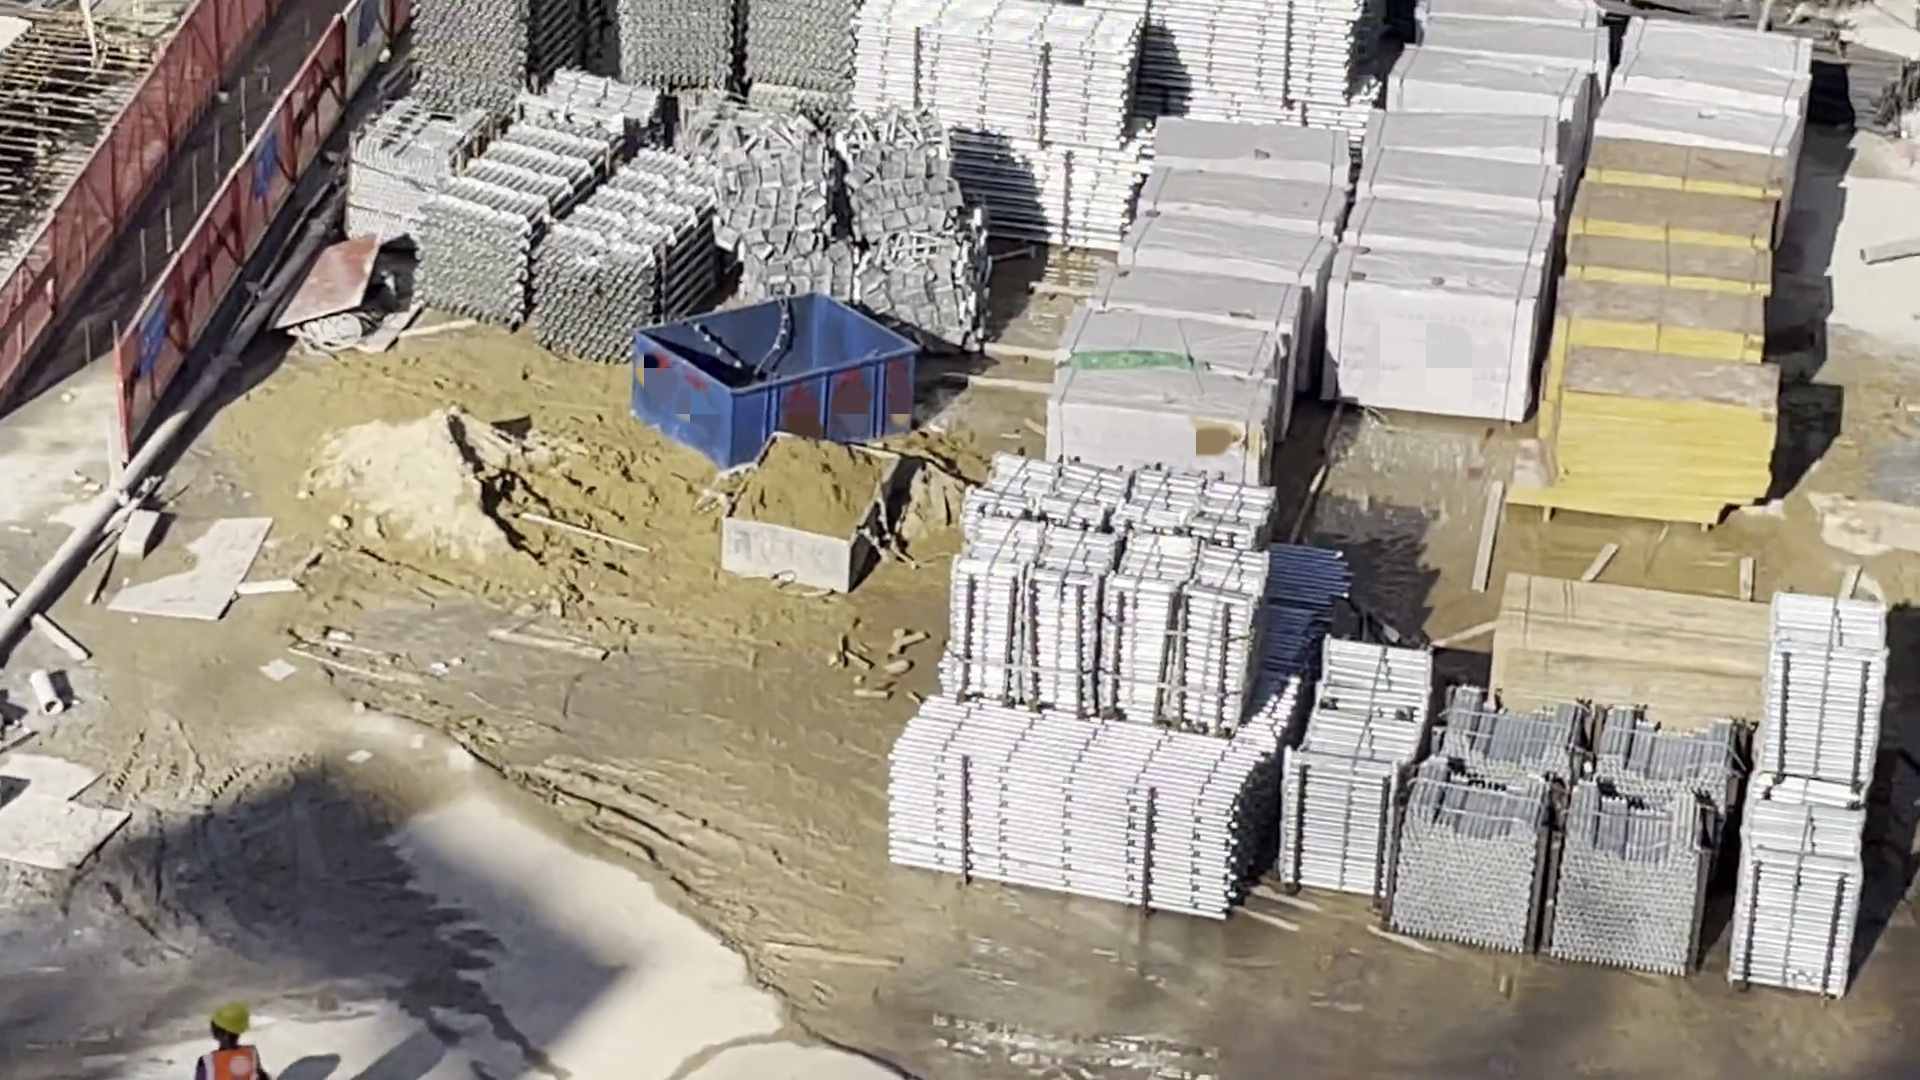board: (1541, 352, 1776, 499), (1548, 252, 1786, 346), (1579, 172, 1779, 271)
fence: (129, 191, 273, 454), (103, 1, 256, 244), (1, 208, 63, 367), (276, 32, 328, 181)
helmet: (226, 1009, 244, 1042)
hopper: (649, 306, 914, 442)
person: (198, 992, 266, 1080)
rebar: (1828, 32, 1908, 134)
scaffold: (888, 706, 1228, 904), (1001, 464, 1244, 647), (1583, 732, 1734, 961), (1793, 606, 1883, 984), (1418, 692, 1529, 941), (645, 1, 864, 121), (478, 89, 593, 291), (973, 117, 1131, 257), (861, 26, 1134, 107), (588, 164, 706, 337), (1309, 646, 1394, 861), (1147, 1, 1343, 89), (1273, 537, 1346, 686), (368, 99, 446, 231), (461, 1, 586, 82)
vest: (209, 1042, 258, 1077)
wood: (1489, 589, 1758, 761)
